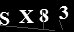3: (58, 5, 69, 20)
8: (38, 8, 49, 24)
S: (1, 10, 10, 26)
X: (17, 9, 35, 24)
